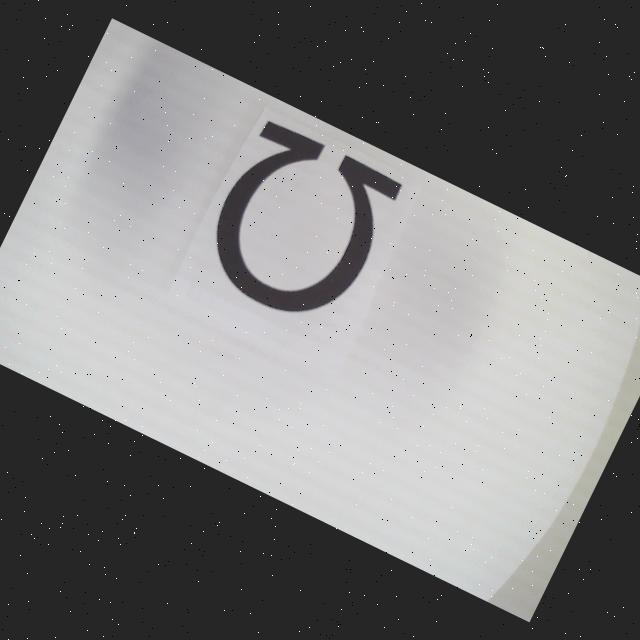OMEGA: (190, 116, 403, 337)
